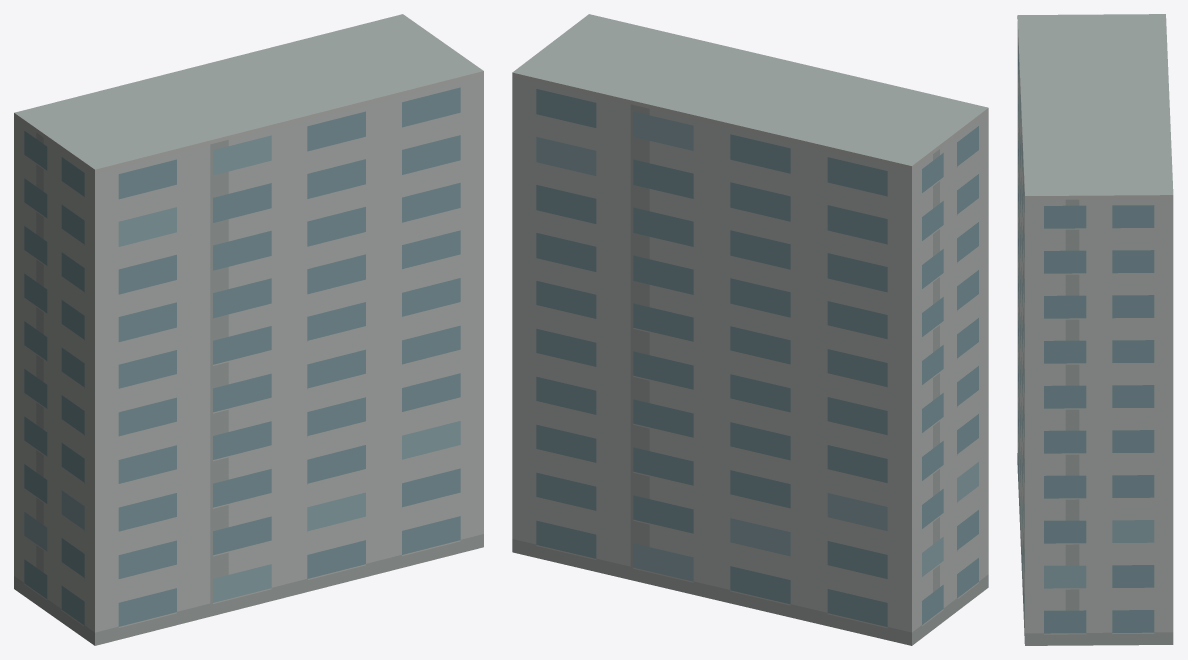
Rendered from residential-28df815a-f7c8-44c0-b983-69377a15b5f9.glb.
3 views of the same model, side by side, from view 1: azimuth 30°, elevation 25°; view 2: azimuth 150°, elevation 25°; view 3: azimuth 270°, elevation 25° (orthographic). The views are drawn at different scales.
Visible parts, largest first — view 1: residential-28df815a-f7c8-44c0-b983-69377a15b5f9.tmp; view 2: residential-28df815a-f7c8-44c0-b983-69377a15b5f9.tmp; view 3: residential-28df815a-f7c8-44c0-b983-69377a15b5f9.tmp.
Boxes of the visible parts, <box> form: residential-28df815a-f7c8-44c0-b983-69377a15b5f9.tmp: <box>14,14,483,645</box>; residential-28df815a-f7c8-44c0-b983-69377a15b5f9.tmp: <box>512,14,988,645</box>; residential-28df815a-f7c8-44c0-b983-69377a15b5f9.tmp: <box>1017,14,1173,645</box>.
Size of the model in its own units: 25.19 by 29 by 9.12.
